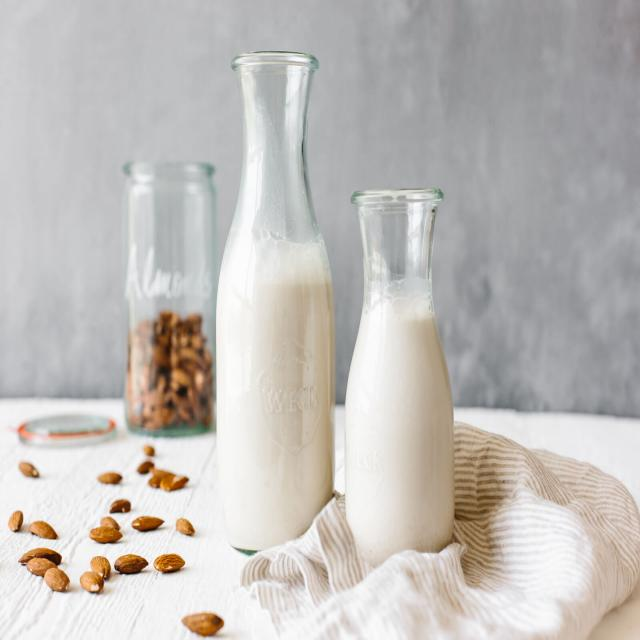Milk carton/jug: (212, 269, 338, 556), (344, 294, 457, 586)
